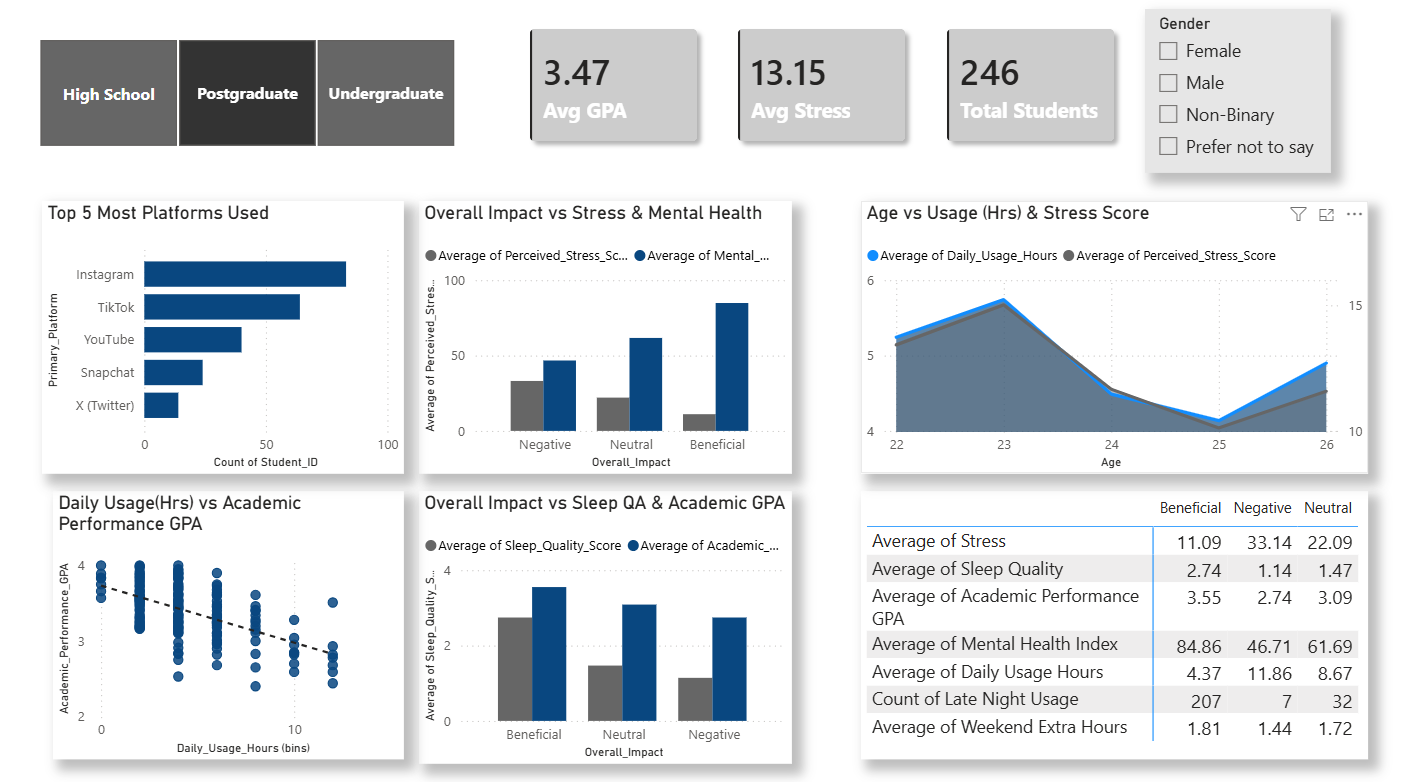

What the dashboard file says about the page in this screenshot:
{"tool":"powerbi","page":{"name":"Page 2","canvas":[1280,720],"ordinal":0},"visuals":[{"type":"group","id":"g1","title":"Group 1","box":[455,0,589,160],"z":0},{"type":"cardVisual","fields":{"Data":["_Measures.Promedio GPA"]},"box":[455,0,210.2,160],"z":0,"group":"g1"},{"type":"cardVisual","fields":{"Data":["_Measures.Promedio Stress"]},"box":[644.4,0,210.2,160],"z":1000,"group":"g1"},{"type":"slicer","fields":{"Values":["dataset_limpio.Gender"]},"box":[1044,11,169,149],"z":1000},{"type":"cardVisual","fields":{"Data":["CountNonNull(dataset_limpio.Student_ID)"]},"box":[833.8,0,210.2,160],"z":2000,"group":"g1"},{"type":"clusteredColumnChart","title":"Overall Impact vs Sleep QA & Academic GPA","fields":{"Category":["dataset_limpio.Overall_Impact"],"Y":["Avg(dataset_limpio.Sleep_Quality_Score)","Avg(dataset_limpio.Academic_Performance_GPA)"]},"box":[384,449,339,248],"z":2000},{"type":"clusteredColumnChart","title":"Overall Impact vs Stress & Mental Health","fields":{"Category":["dataset_limpio.Overall_Impact"],"Y":["Avg(dataset_limpio.Perceived_Stress_Score)","Avg(dataset_limpio.Mental_Health_Index)"]},"box":[384,185,339,248],"z":3000},{"type":"scatterChart","title":"Daily Usage(Hrs) vs Academic Performance GPA","fields":{"X":["dataset_limpio.Daily_Usage_Hours (bins)"],"Y":["dataset_limpio.Academic_Performance_GPA"]},"box":[51,449,319,244],"z":4000},{"type":"clusteredBarChart","title":"Top 5 Most Platforms Used","fields":{"Category":["dataset_limpio.Primary_Platform"],"Y":["CountNonNull(dataset_limpio.Student_ID)"]},"box":[41,185,329,248],"z":5000},{"type":"slicer","fields":{"Values":["dataset_limpio.Academic_Level"]},"box":[14,18,426,124],"z":6000},{"type":"pivotTable","fields":{"Columns":["dataset_limpio.Overall_Impact"],"Values":["Avg(dataset_limpio.Perceived_Stress_Score)","Avg(dataset_limpio.Sleep_Quality_Score)","Avg(dataset_limpio.Academic_Performance_GPA)","Avg(dataset_limpio.Mental_Health_Index)","Avg(dataset_limpio.Daily_Usage_Hours)","CountNonNull(dataset_limpio.Late_Night_Usage)","Avg(dataset_limpio.Weekend_Extra_Hours)"]},"box":[785,449,461,244],"z":7000},{"type":"areaChart","title":"Age vs Usage (Hrs) & Stress Score","fields":{"Category":["dataset_limpio.Age"],"Y":["Avg(dataset_limpio.Daily_Usage_Hours)"],"Y2":["Avg(dataset_limpio.Perceived_Stress_Score)"]},"box":[785,185,461,248],"z":8000}]}

Visuals, with their boxes in screenshot pixels (x1, y1, x2, y2), scaled from the page's 1280x720 canvas onto the 1403x782 screenshot:
"Group 1" group: {"left": 499, "top": 0, "right": 1144, "bottom": 174}
cardVisual - _Measures.Promedio GPA: {"left": 499, "top": 0, "right": 729, "bottom": 174}
cardVisual - _Measures.Promedio Stress: {"left": 706, "top": 0, "right": 937, "bottom": 174}
slicer - dataset_limpio.Gender: {"left": 1144, "top": 12, "right": 1330, "bottom": 174}
cardVisual - CountNonNull(dataset_limpio.Student_ID): {"left": 914, "top": 0, "right": 1144, "bottom": 174}
"Overall Impact vs Sleep QA & Academic GPA" clusteredColumnChart: {"left": 421, "top": 488, "right": 792, "bottom": 757}
"Overall Impact vs Stress & Mental Health" clusteredColumnChart: {"left": 421, "top": 201, "right": 792, "bottom": 470}
"Daily Usage(Hrs) vs Academic Performance GPA" scatterChart: {"left": 56, "top": 488, "right": 406, "bottom": 753}
"Top 5 Most Platforms Used" clusteredBarChart: {"left": 45, "top": 201, "right": 406, "bottom": 470}
slicer - dataset_limpio.Academic_Level: {"left": 15, "top": 20, "right": 482, "bottom": 154}
pivotTable - dataset_limpio.Overall_Impact x Avg(dataset_limpio.Perceived_Stress_Score): {"left": 860, "top": 488, "right": 1366, "bottom": 753}
"Age vs Usage (Hrs) & Stress Score" areaChart: {"left": 860, "top": 201, "right": 1366, "bottom": 470}
